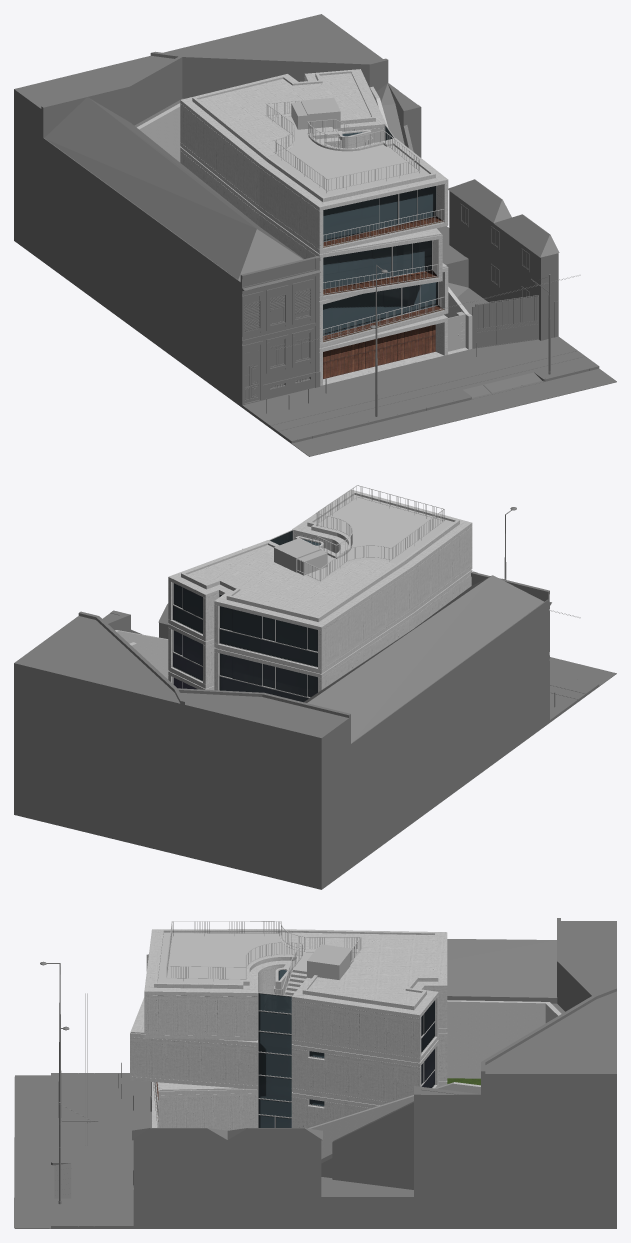
3 renders of one model, top to bottom at view 1: azimuth 30°, elevation 25°; view 2: azimuth 150°, elevation 25°; view 3: azimuth 270°, elevation 25°, orthographic.
Parts seen in each view (by area): view 1: Mesh411 Group231 Group230 Group75 Model.037, Mesh24 Group13 Group12 Group2 Model, Mesh7 Group1 Model, Mesh60 Union Group54 Model, Mesh419 Group242 Group232 Group230 Group75 Model, Mesh25 Group15 Group14 Model, Mesh14 Group4 Group3 Group2 Model, Mesh99 Group93 Group92 Group76 Group75 Model, Mesh22 Group10 Group3 Group2 Model, Mesh249 Group151 Group150 Group75 Model, Mesh59 OuterShell3 Group53 Group52 Group14 Model, Mesh411 Group231 Group230 Group75 Model.003 (+8 smaller); view 2: Mesh24 Group13 Group12 Group2 Model, Mesh411 Group231 Group230 Group75 Model.037, Mesh7 Group1 Model, Mesh60 Union Group54 Model, Mesh419 Group242 Group232 Group230 Group75 Model, Mesh99 Group93 Group92 Group76 Group75 Model, Mesh411 Group231 Group230 Group75 Model.069, Mesh22 Group10 Group3 Group2 Model; view 3: Mesh411 Group231 Group230 Group75 Model.037, Mesh24 Group13 Group12 Group2 Model, Mesh60 Union Group54 Model, Mesh59 OuterShell3 Group53 Group52 Group14 Model, Mesh7 Group1 Model, Mesh14 Group4 Group3 Group2 Model, Mesh22 Group10 Group3 Group2 Model, Mesh419 Group242 Group232 Group230 Group75 Model, Mesh99 Group93 Group92 Group76 Group75 Model, Mesh17 Group4 Group3 Group2 Model, Mesh15 Group4 Group3 Group2 Model, Mesh411 Group231 Group230 Group75 Model.069 (+5 smaller).
Part boxes in pixels (left/top/right/bottom): Mesh411 Group231 Group230 Group75 Model.037: left=137, top=69, right=472, bottom=385; Mesh24 Group13 Group12 Group2 Model: left=14, top=14, right=616, bottom=456; Mesh7 Group1 Model: left=44, top=97, right=320, bottom=404; Mesh60 Union Group54 Model: left=15, top=14, right=387, bottom=137; Mesh419 Group242 Group232 Group230 Group75 Model: left=323, top=126, right=437, bottom=335; Mesh25 Group15 Group14 Model: left=448, top=179, right=558, bottom=340; Mesh14 Group4 Group3 Group2 Model: left=243, top=336, right=573, bottom=422; Mesh99 Group93 Group92 Group76 Group75 Model: left=266, top=100, right=465, bottom=351; Mesh22 Group10 Group3 Group2 Model: left=292, top=369, right=616, bottom=456; Mesh249 Group151 Group150 Group75 Model: left=323, top=324, right=435, bottom=378; Mesh59 OuterShell3 Group53 Group52 Group14 Model: left=376, top=83, right=468, bottom=297; Mesh411 Group231 Group230 Group75 Model.003: left=323, top=216, right=443, bottom=341; Mesh24 Group13 Group12 Group2 Model: left=14, top=549, right=616, bottom=889; Mesh411 Group231 Group230 Group75 Model.037: left=115, top=489, right=472, bottom=692; Mesh7 Group1 Model: left=304, top=571, right=550, bottom=743; Mesh60 Union Group54 Model: left=15, top=611, right=349, bottom=737; Mesh419 Group242 Group232 Group230 Group75 Model: left=173, top=530, right=320, bottom=702; Mesh99 Group93 Group92 Group76 Group75 Model: left=172, top=485, right=444, bottom=698; Mesh411 Group231 Group230 Group75 Model.069: left=274, top=538, right=327, bottom=575; Mesh22 Group10 Group3 Group2 Model: left=549, top=657, right=615, bottom=685; Mesh411 Group231 Group230 Group75 Model.037: left=130, top=929, right=561, bottom=1159; Mesh24 Group13 Group12 Group2 Model: left=15, top=918, right=616, bottom=1228; Mesh60 Union Group54 Model: left=481, top=918, right=615, bottom=1073; Mesh59 OuterShell3 Group53 Group52 Group14 Model: left=321, top=1086, right=479, bottom=1196; Mesh7 Group1 Model: left=146, top=939, right=557, bottom=1111; Mesh14 Group4 Group3 Group2 Model: left=101, top=1073, right=151, bottom=1225; Mesh22 Group10 Group3 Group2 Model: left=14, top=1075, right=50, bottom=1228; Mesh419 Group242 Group232 Group230 Group75 Model: left=258, top=970, right=434, bottom=1127; Mesh99 Group93 Group92 Group76 Group75 Model: left=154, top=921, right=435, bottom=1127; Mesh17 Group4 Group3 Group2 Model: left=79, top=1073, right=93, bottom=1225; Mesh15 Group4 Group3 Group2 Model: left=54, top=1073, right=71, bottom=1161; Mesh411 Group231 Group230 Group75 Model.069: left=307, top=944, right=352, bottom=979.
Bounding box in the file's own units: 21.53 × 13.23 × 35.84.
Materials: 6 (4 with a texture image).
